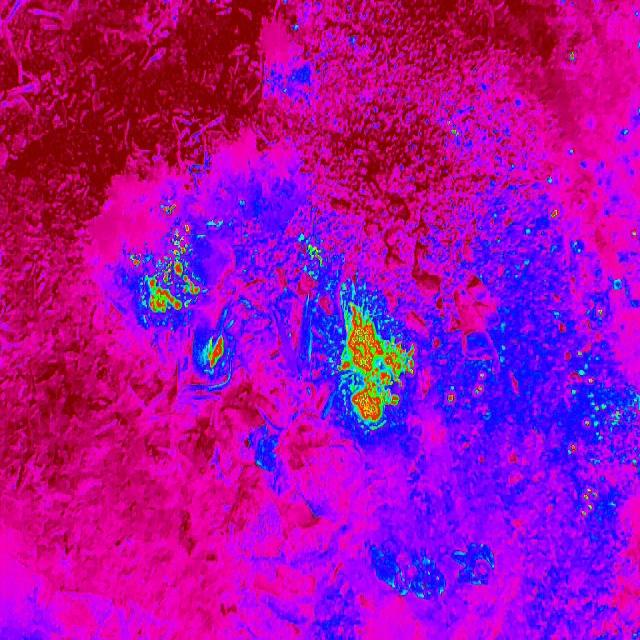fire: (543, 205, 640, 530), (339, 297, 419, 428), (128, 222, 198, 318), (441, 371, 488, 411), (202, 334, 228, 370), (304, 242, 324, 270), (158, 202, 178, 216), (447, 123, 459, 139), (568, 48, 578, 62)
